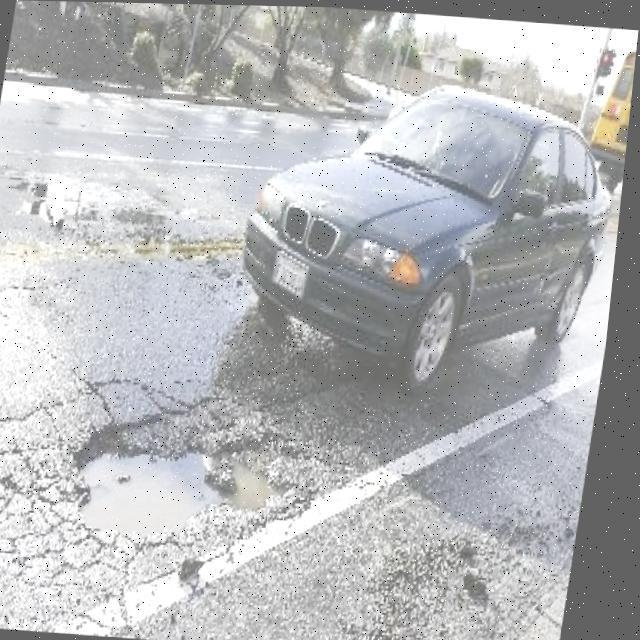pothole: (68, 398, 312, 560)
